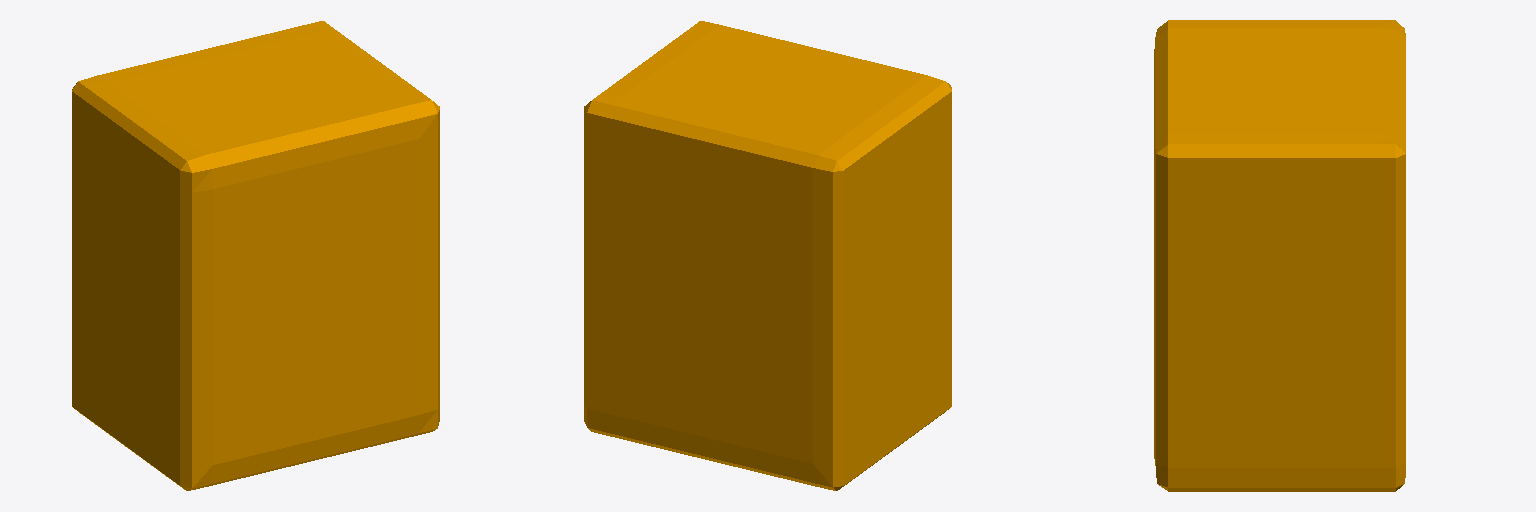
The robot description file, URDF, robot "cylinder_box_96":
<?xml version="1.0" encoding="utf-8"?>  <robot name="cylinder_box_96">   <link name="cylinder_box_96">     <visual>       <geometry>         <mesh filename="../meshes/box/box_96.stl" scale="1 1 1"/>       </geometry>     </visual>     <collision>       <geometry>         <mesh filename="../meshes/box/box_96.stl" scale="1 1 1"/>       </geometry>     </collision>     <inertial>        <origin         xyz="0 0 0"         rpy="0 0 0" />       <mass value="0.3193615230173326"/>       <origin rpy="0 0 0" xyz="0 0 0"/>       <inertia ixx="0.00026795561062633525" ixy="-2.0492782967512724e-08" ixz="-1.0900029465470893e-07" iyy="0.0003123998504595968" iyz="1.742661753091713e-08" izz="0.0002060480153269649"/>     </inertial>   </link>  </robot>

--- What the picture shows (computed from the rendered views, not written in the file) ---
3 views of the same robot in one strip: view 1: azimuth 30°, elevation 25°; view 2: azimuth 150°, elevation 25°; view 3: azimuth 270°, elevation 25° (orthographic).
Model cylinder_box_96 with 1 links and 0 joints (none), rooted at cylinder_box_96, posed all joints at 0.
Visible links, largest first — view 1: cylinder_box_96; view 2: cylinder_box_96; view 3: cylinder_box_96.
Boxes of the visible links, bbox=[...] form: cylinder_box_96: bbox=[72, 21, 439, 490]; cylinder_box_96: bbox=[584, 21, 951, 490]; cylinder_box_96: bbox=[1154, 20, 1405, 491].
Bounding box of the posed robot: 0.069 × 0.0555 × 0.0843 m (x, y, z).
1 mesh visuals loaded from 1 distinct referenced files (1 binary STL).